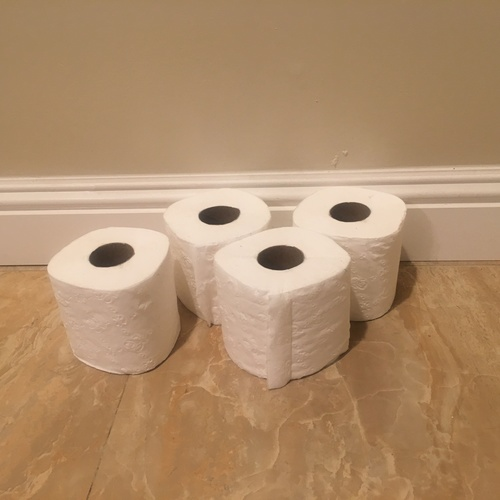roll: (214, 227, 351, 380), (47, 227, 182, 375), (291, 186, 406, 321), (166, 192, 272, 327)
